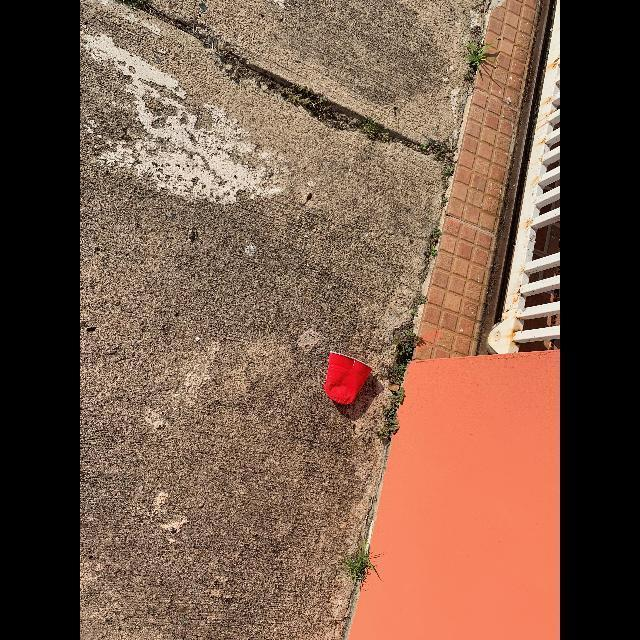Plastic: (323, 352, 372, 404)
